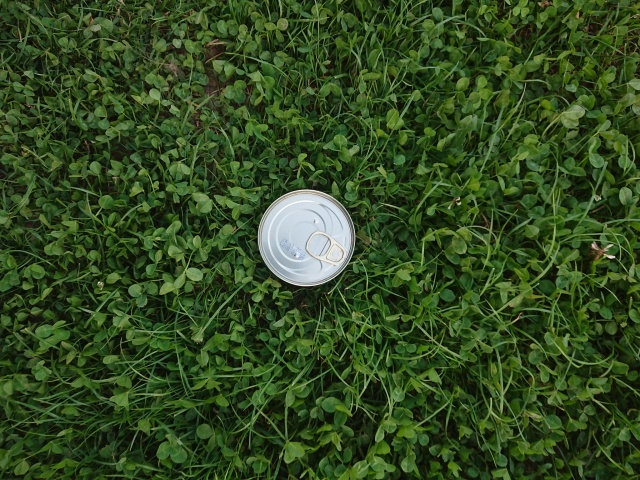Podravka Luncheon Meat 150g: (254, 186, 359, 289)
